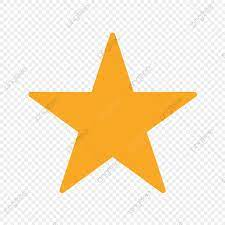star: (25, 29, 198, 194)
